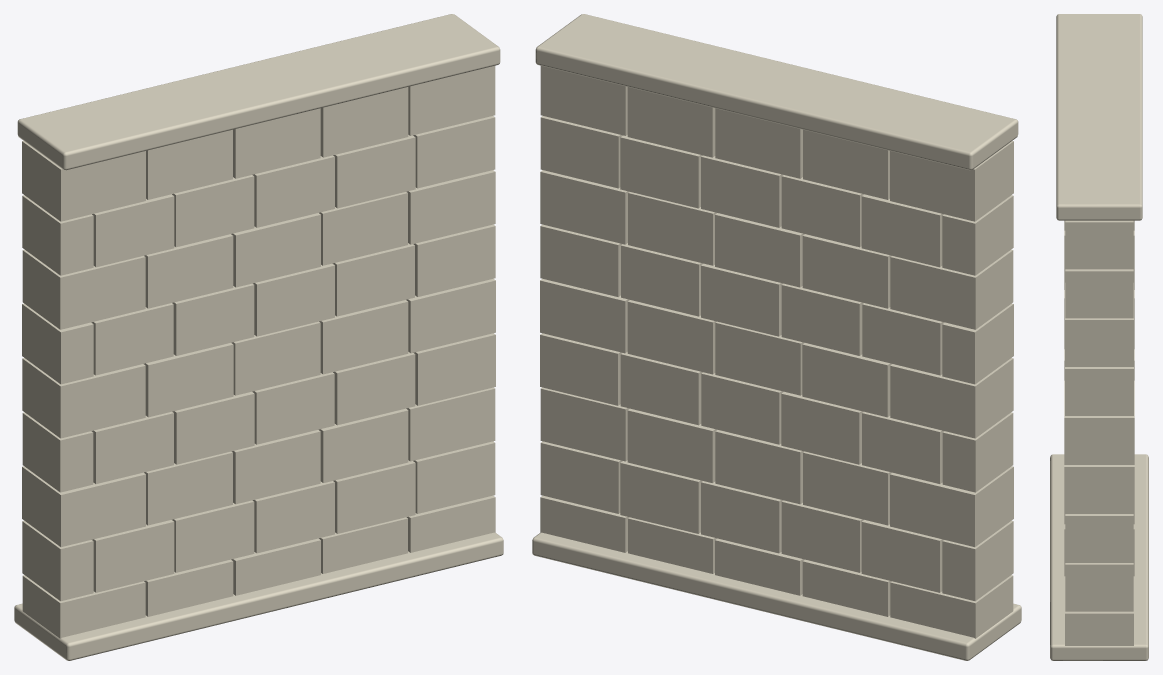
The model's file is monastery-wall-bay.glb.
The picture shows the model from 3 angles, left to right: view 1: azimuth 30°, elevation 25°; view 2: azimuth 150°, elevation 25°; view 3: azimuth 270°, elevation 25°; orthographic projection. The views are drawn at different scales.
Parts seen in each view (by area): view 1: monastery-wall-bay; view 2: monastery-wall-bay; view 3: monastery-wall-bay.
Boxes of the visible parts, bbox=[...] form: monastery-wall-bay: bbox=[14, 14, 503, 660]; monastery-wall-bay: bbox=[532, 14, 1021, 660]; monastery-wall-bay: bbox=[1050, 14, 1148, 660].
Size of the model in its own units: 3 by 3.32 by 0.6501.
